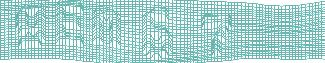6: (139, 5, 175, 63)
7: (200, 12, 234, 59)
E: (53, 1, 86, 50)
g: (12, 2, 48, 52)
n: (92, 7, 122, 51)
